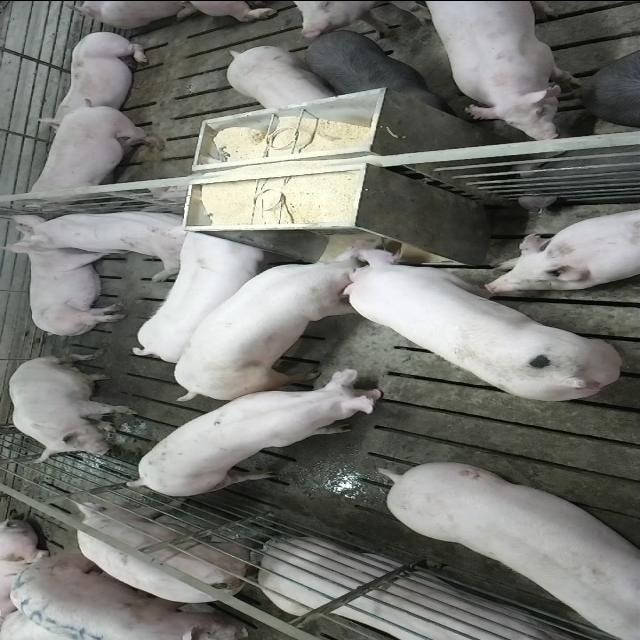Feeding: (338, 240, 624, 402), (165, 243, 381, 407)
Lateral_lying: (22, 246, 130, 336)
Sitting: (7, 354, 141, 463), (9, 204, 198, 270)
Standing: (382, 464, 640, 640), (127, 368, 389, 498), (414, 2, 582, 140), (6, 551, 264, 640), (74, 496, 274, 606), (129, 228, 282, 362), (21, 100, 167, 208), (301, 29, 454, 111), (226, 44, 338, 108)
Sternal_lying: (486, 207, 640, 291), (39, 28, 154, 124)
